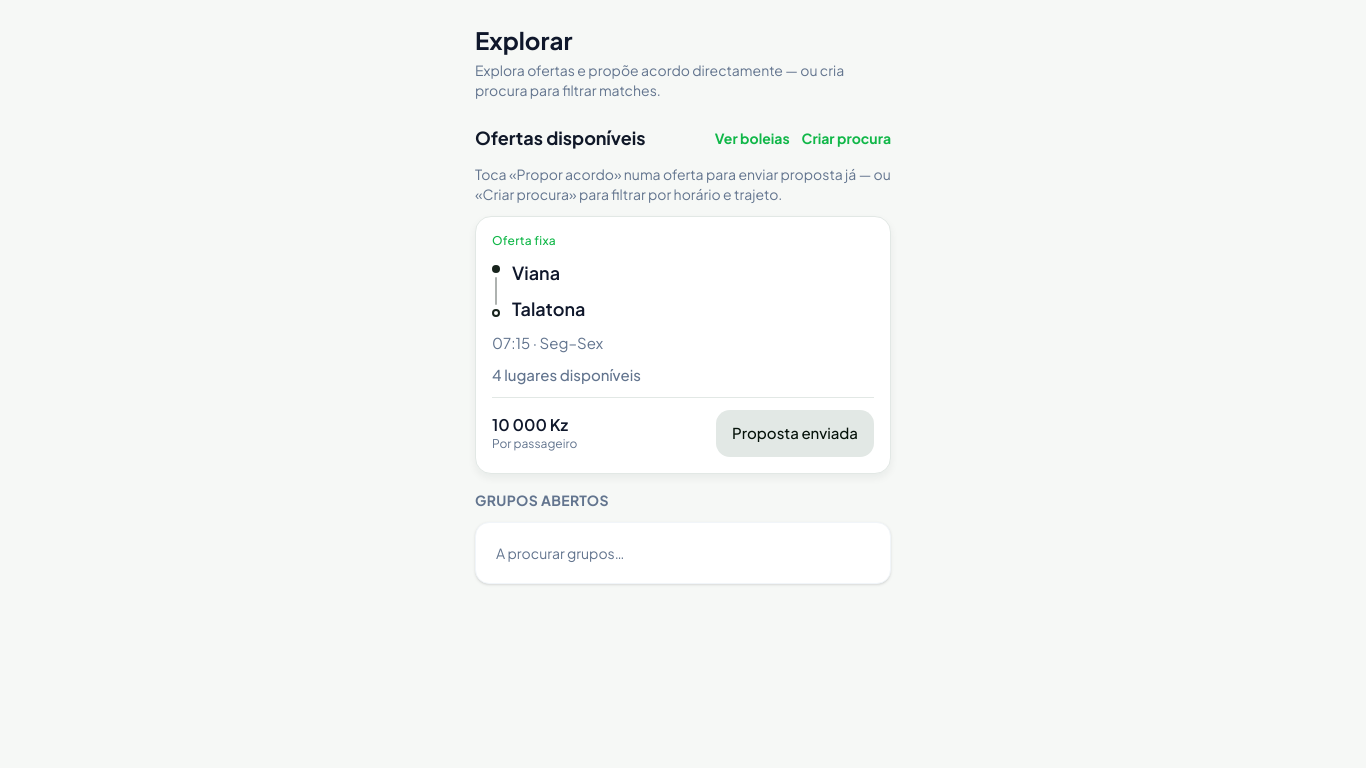
Test case: PassengerDashboard — marketplace › explorar autenticado: detalhe com proposta enviada mostra CTA desactivado
Step 1. Click the button with test id "opportunity-open" → [524, 240], box [492,233,874,385]
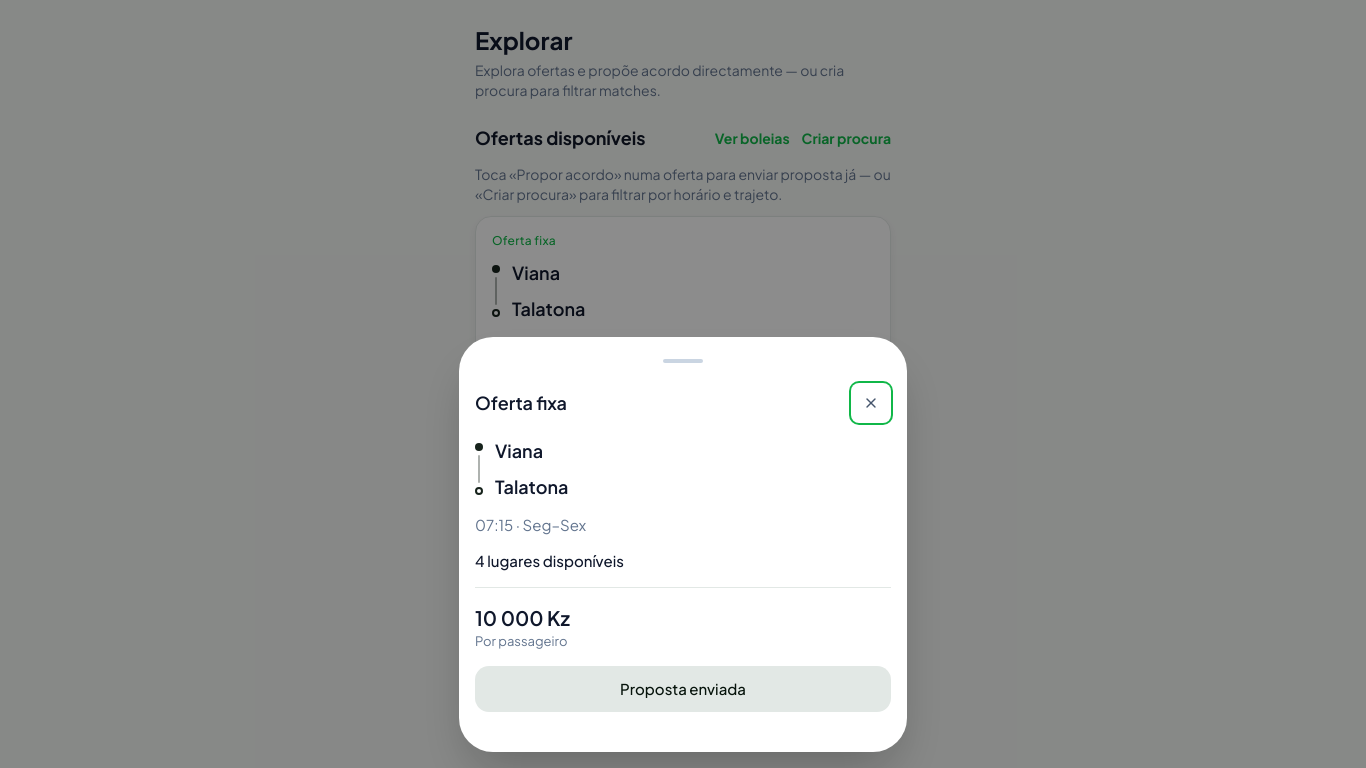
Check: the button "Proposta enviada" is disabled, box [475,666,891,712]
